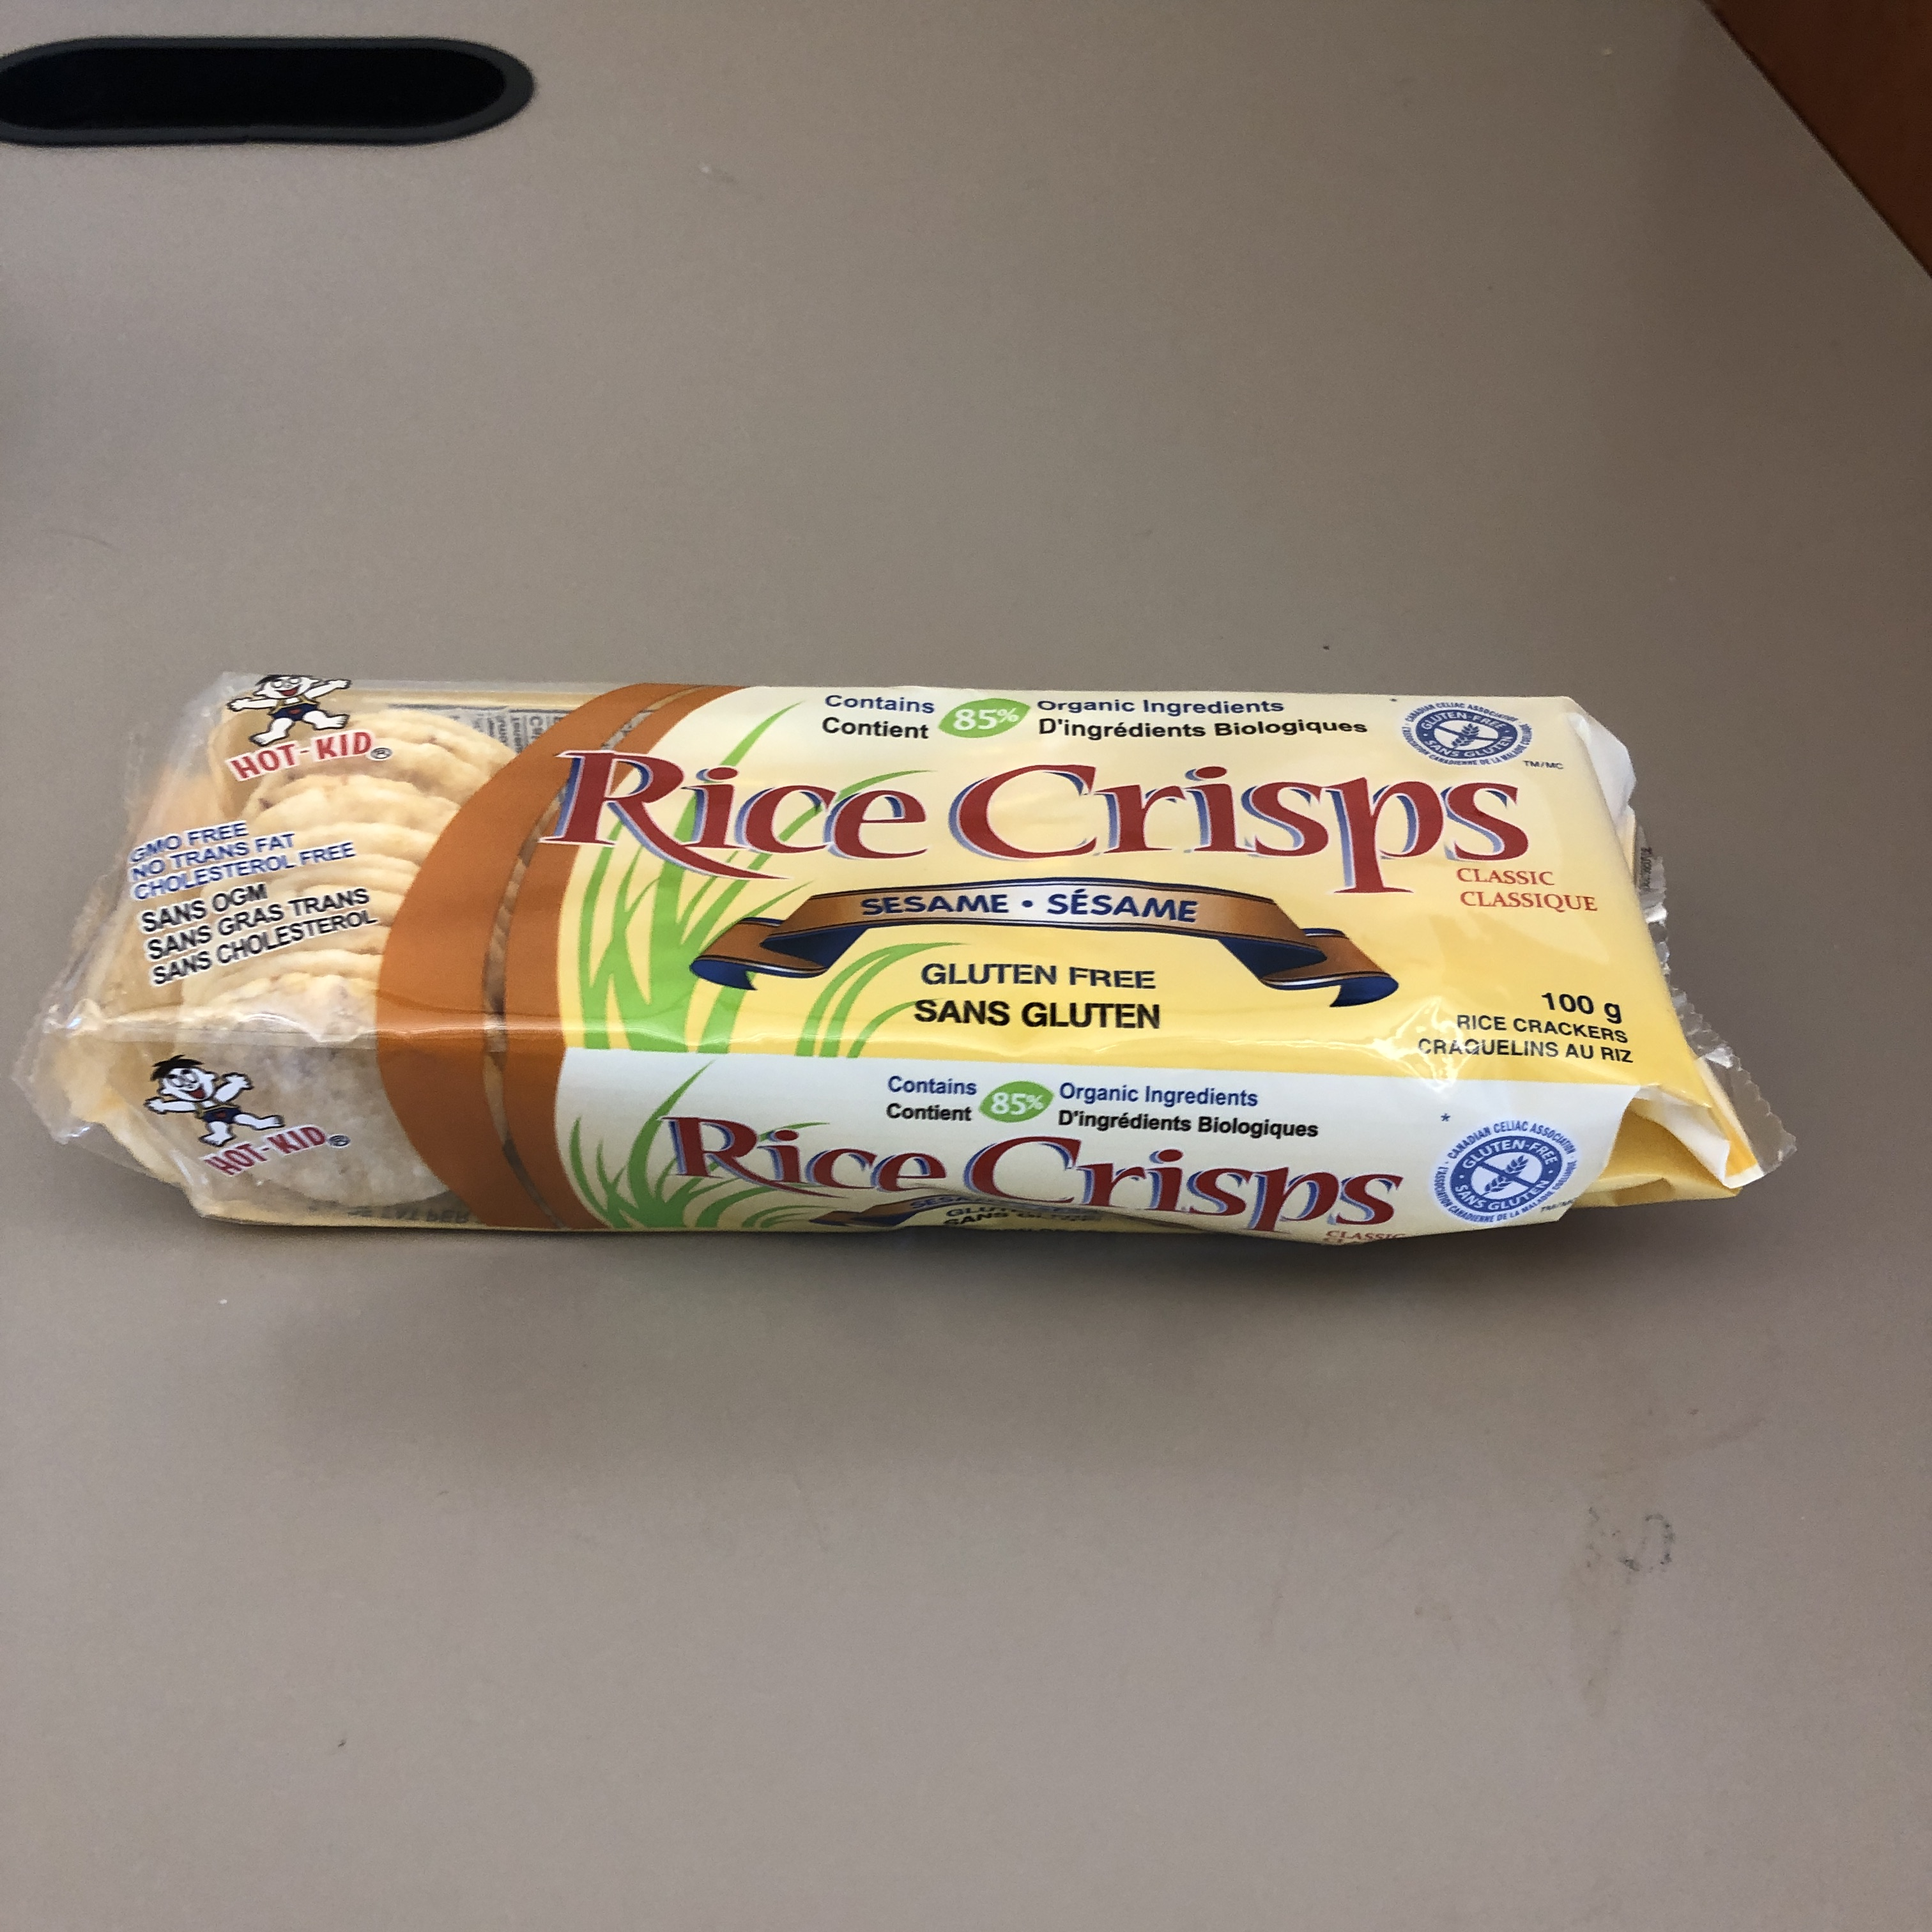hot_kid_rice_crisps_sesame: (678, 277, 1260, 1843)
